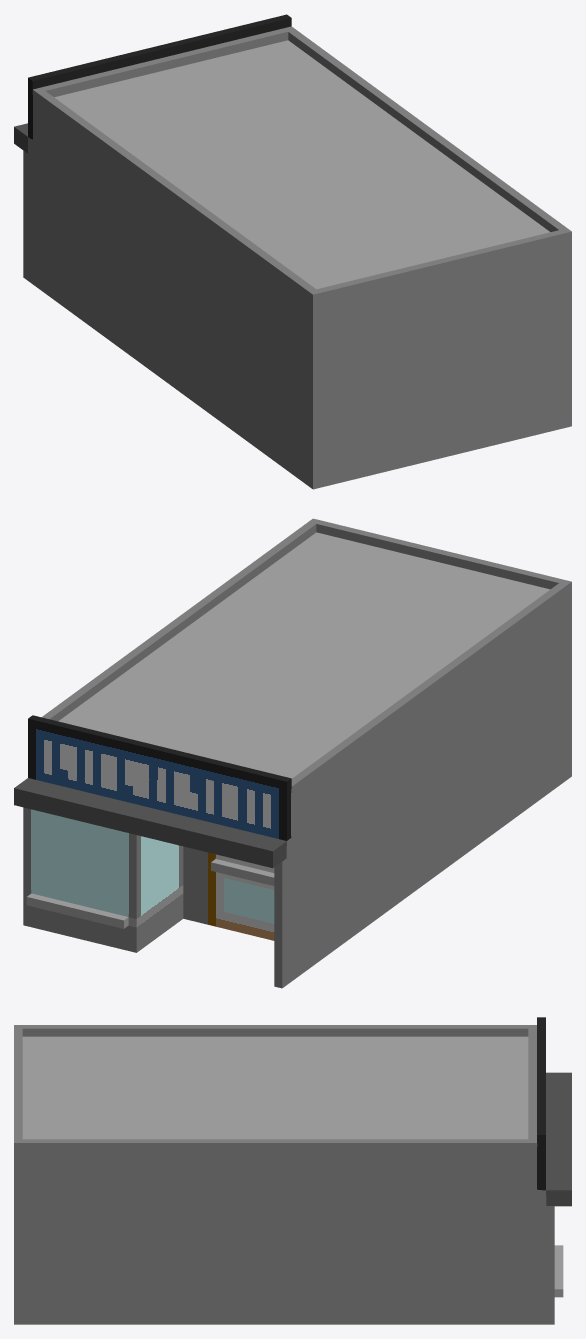
The model's file is obj_store11.fbx.
3 renders of one model, top to bottom at view 1: azimuth 30°, elevation 25°; view 2: azimuth 150°, elevation 25°; view 3: azimuth 270°, elevation 25°, orthographic. The views are drawn at different scales.
Visible parts, largest first — view 1: obj_store11; view 2: obj_store11; view 3: obj_store11.
Boxes of the visible parts, <box> form: obj_store11: <box>14,14,571,489</box>; obj_store11: <box>14,518,571,988</box>; obj_store11: <box>14,1017,571,1324</box>.
Size of the model in its own units: 3.2 by 6.4 by 2.4.
1 material, 1 textured.
